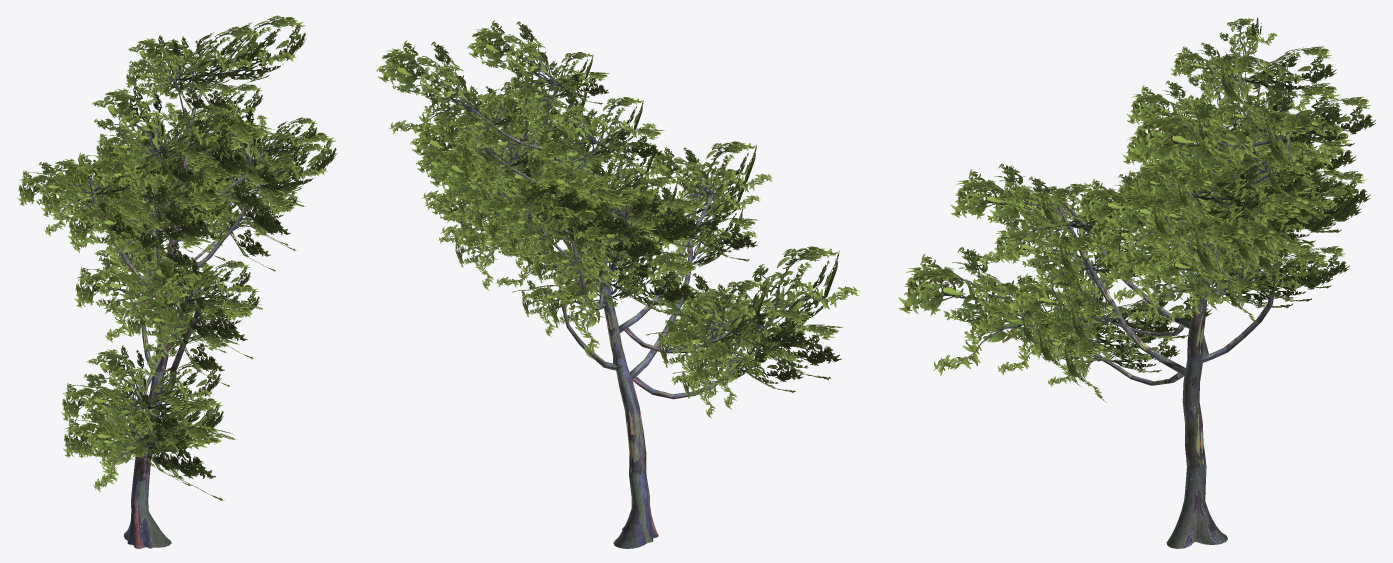
File: Tree - Tree9 5-D6pgVuJD.glb
The picture shows the model from 3 angles, left to right: view 1: azimuth 30°, elevation 25°; view 2: azimuth 150°, elevation 25°; view 3: azimuth 270°, elevation 25°; orthographic projection. The views are drawn at different scales.
Parts seen in each view (by area): view 1: Tree9_5; view 2: Tree9_5; view 3: Tree9_5.
Boxes of the visible parts, <box> form: Tree9_5: <box>17,15,337,548</box>; Tree9_5: <box>376,20,860,548</box>; Tree9_5: <box>898,17,1375,548</box>.
Size of the model in its own units: 17.93 by 23.58 by 18.69.
Materials: 2 (2 with a texture image).
